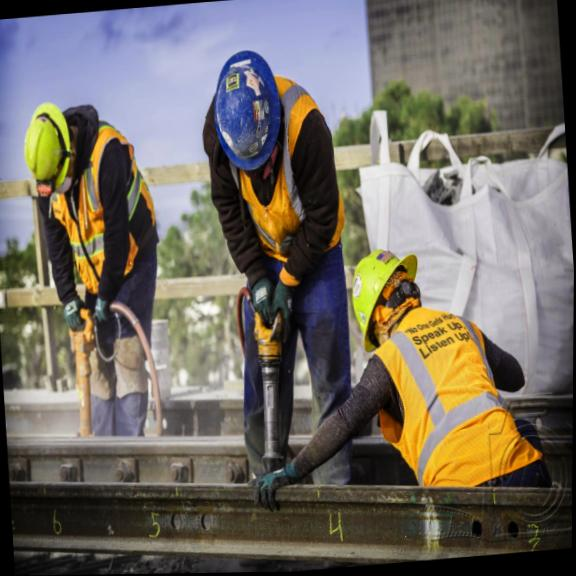safety_vest: (346, 296, 555, 493), (213, 137, 361, 267), (45, 167, 164, 288)
